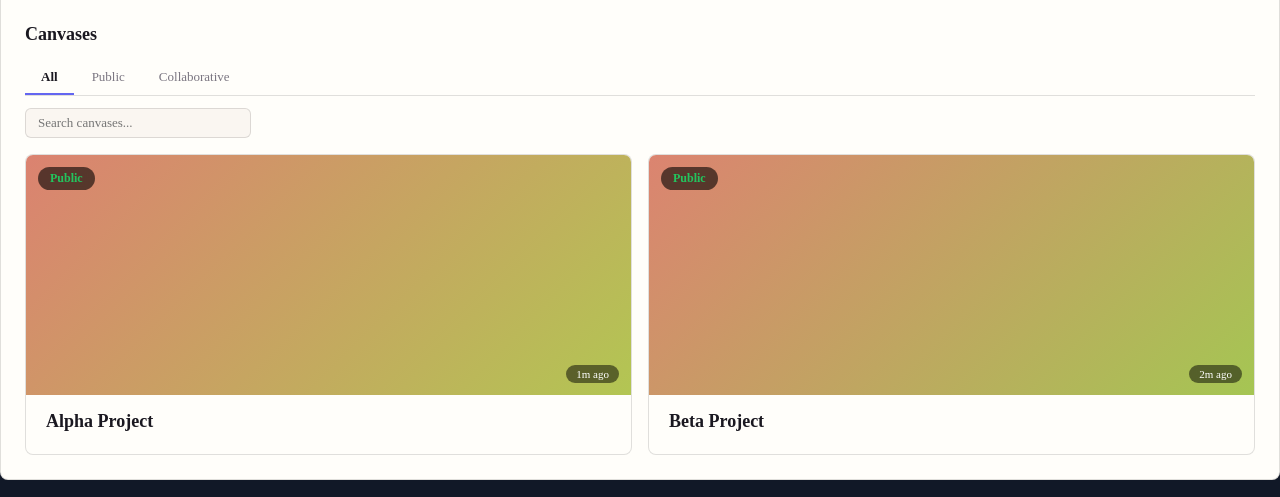
Scenario: CanvasGallerySection › search narrows results › filters canvases by name
Type "Alpha" into the field with test id "canvas-search".
click(138, 123); type("Alpha")  # box [25, 108, 251, 138]
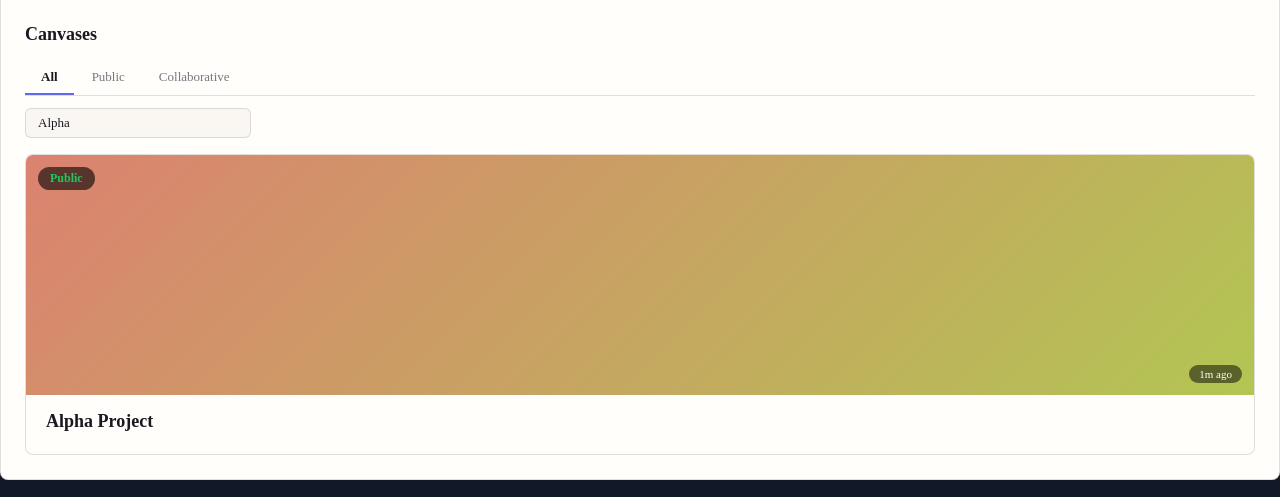
expect the text "Alpha Project" is shown: met, box [46, 411, 153, 431]
expect the link "Beta Project" is gone: met
